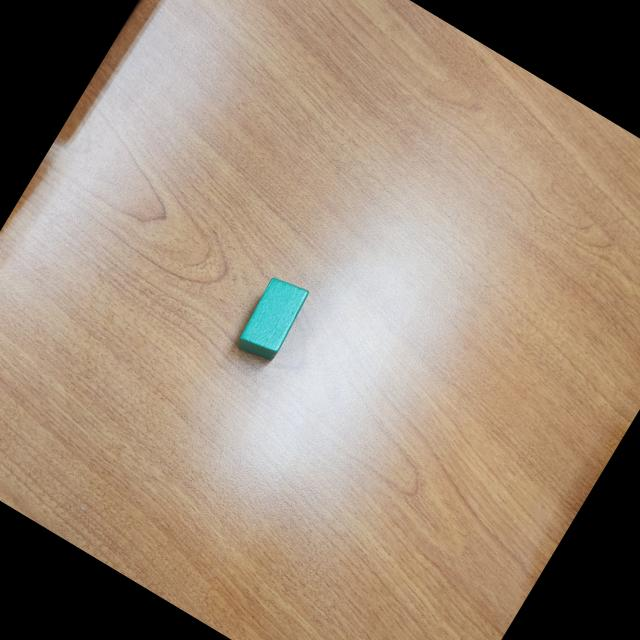green: (230, 271, 314, 369)
